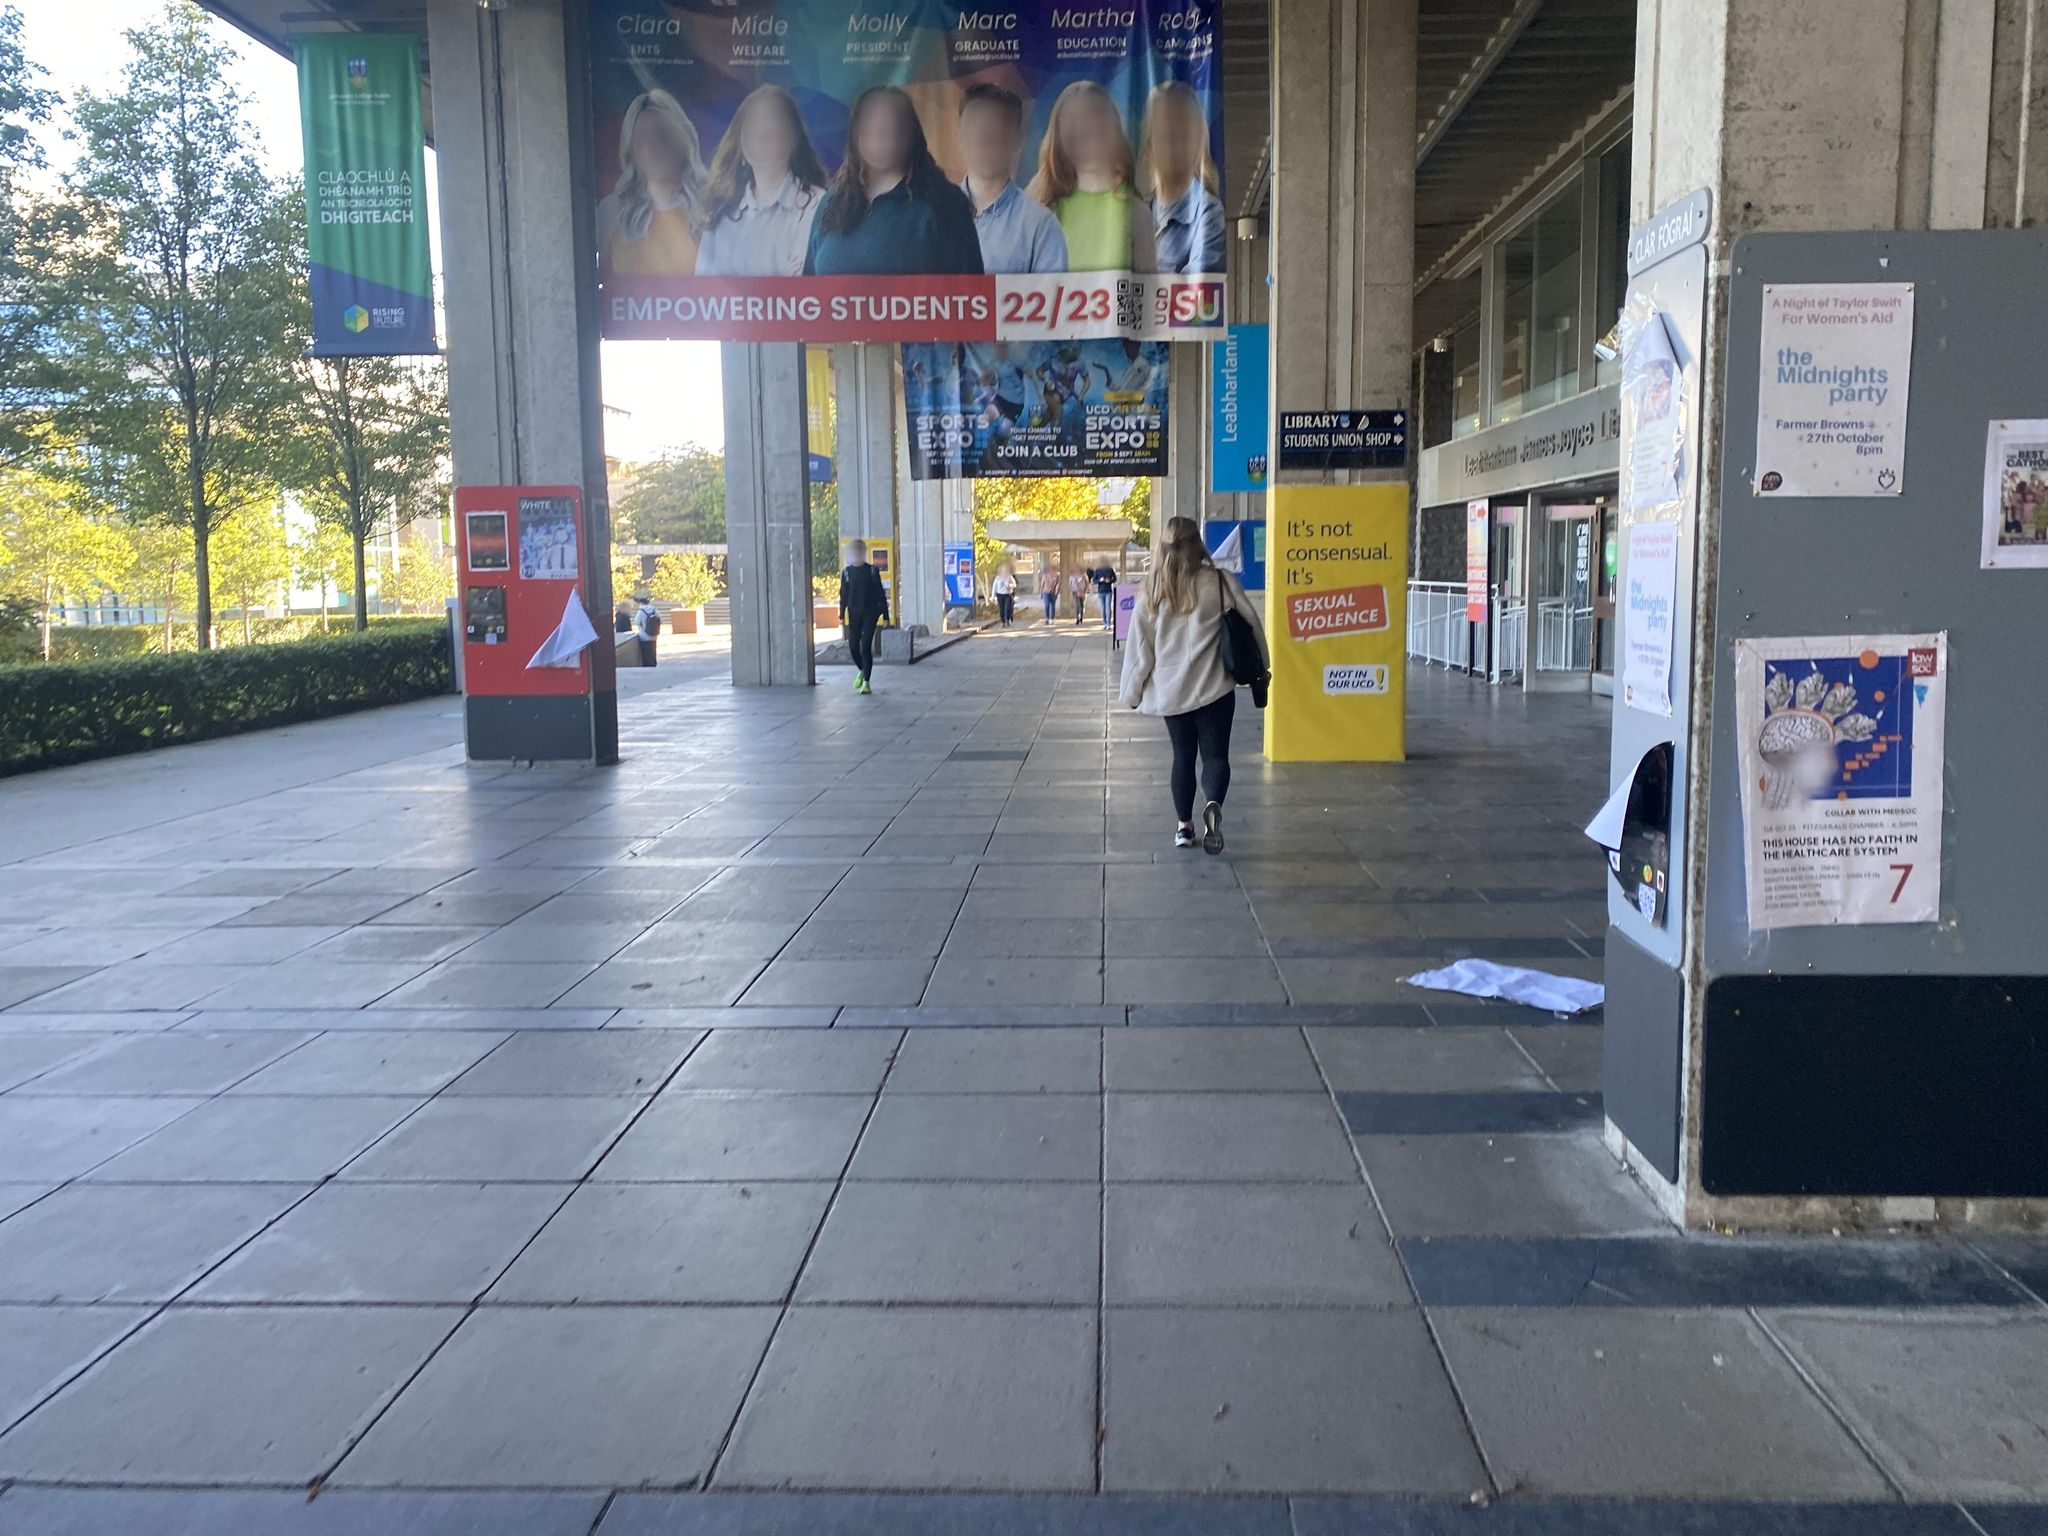vinyl banner: (572, 2, 1232, 349), (893, 340, 1198, 495)
